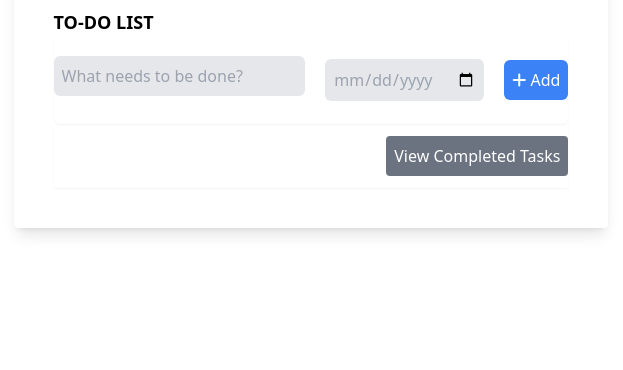
Test: Main Page › can add a new todo
The width and height of the screenshot is (623, 370).
Type "New Todo Item" into the field with test id "todo-text" at (180, 76), box [54, 56, 306, 96]
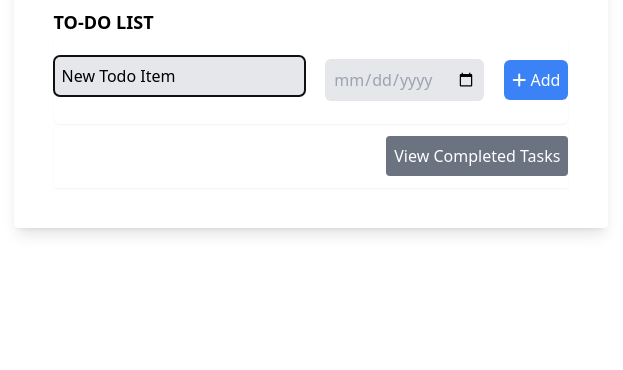
Type "2024-12-31" into the date field with test id "date" at (405, 80), box [325, 59, 484, 101]
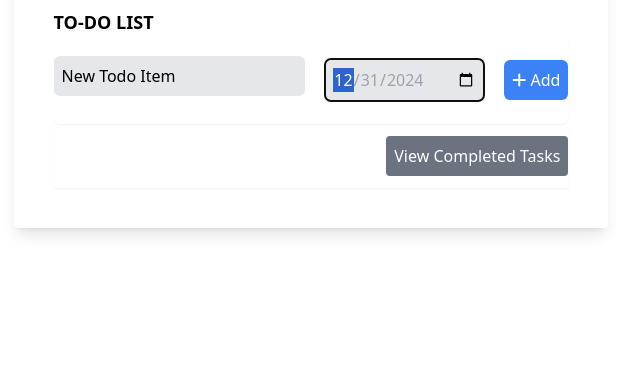
Click the button with test id "add" at (536, 80), box [504, 60, 568, 100]
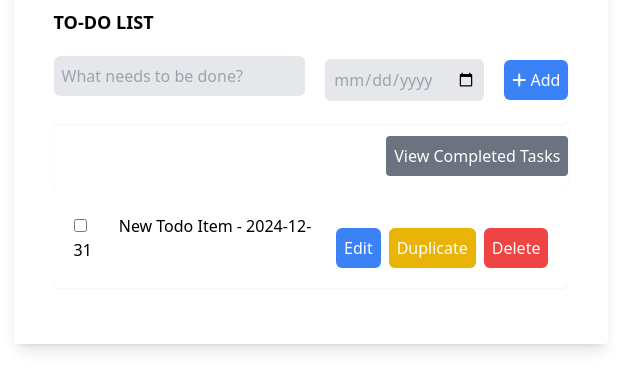
Now the text "2024-12-31" is shown, box [74, 215, 312, 261]
